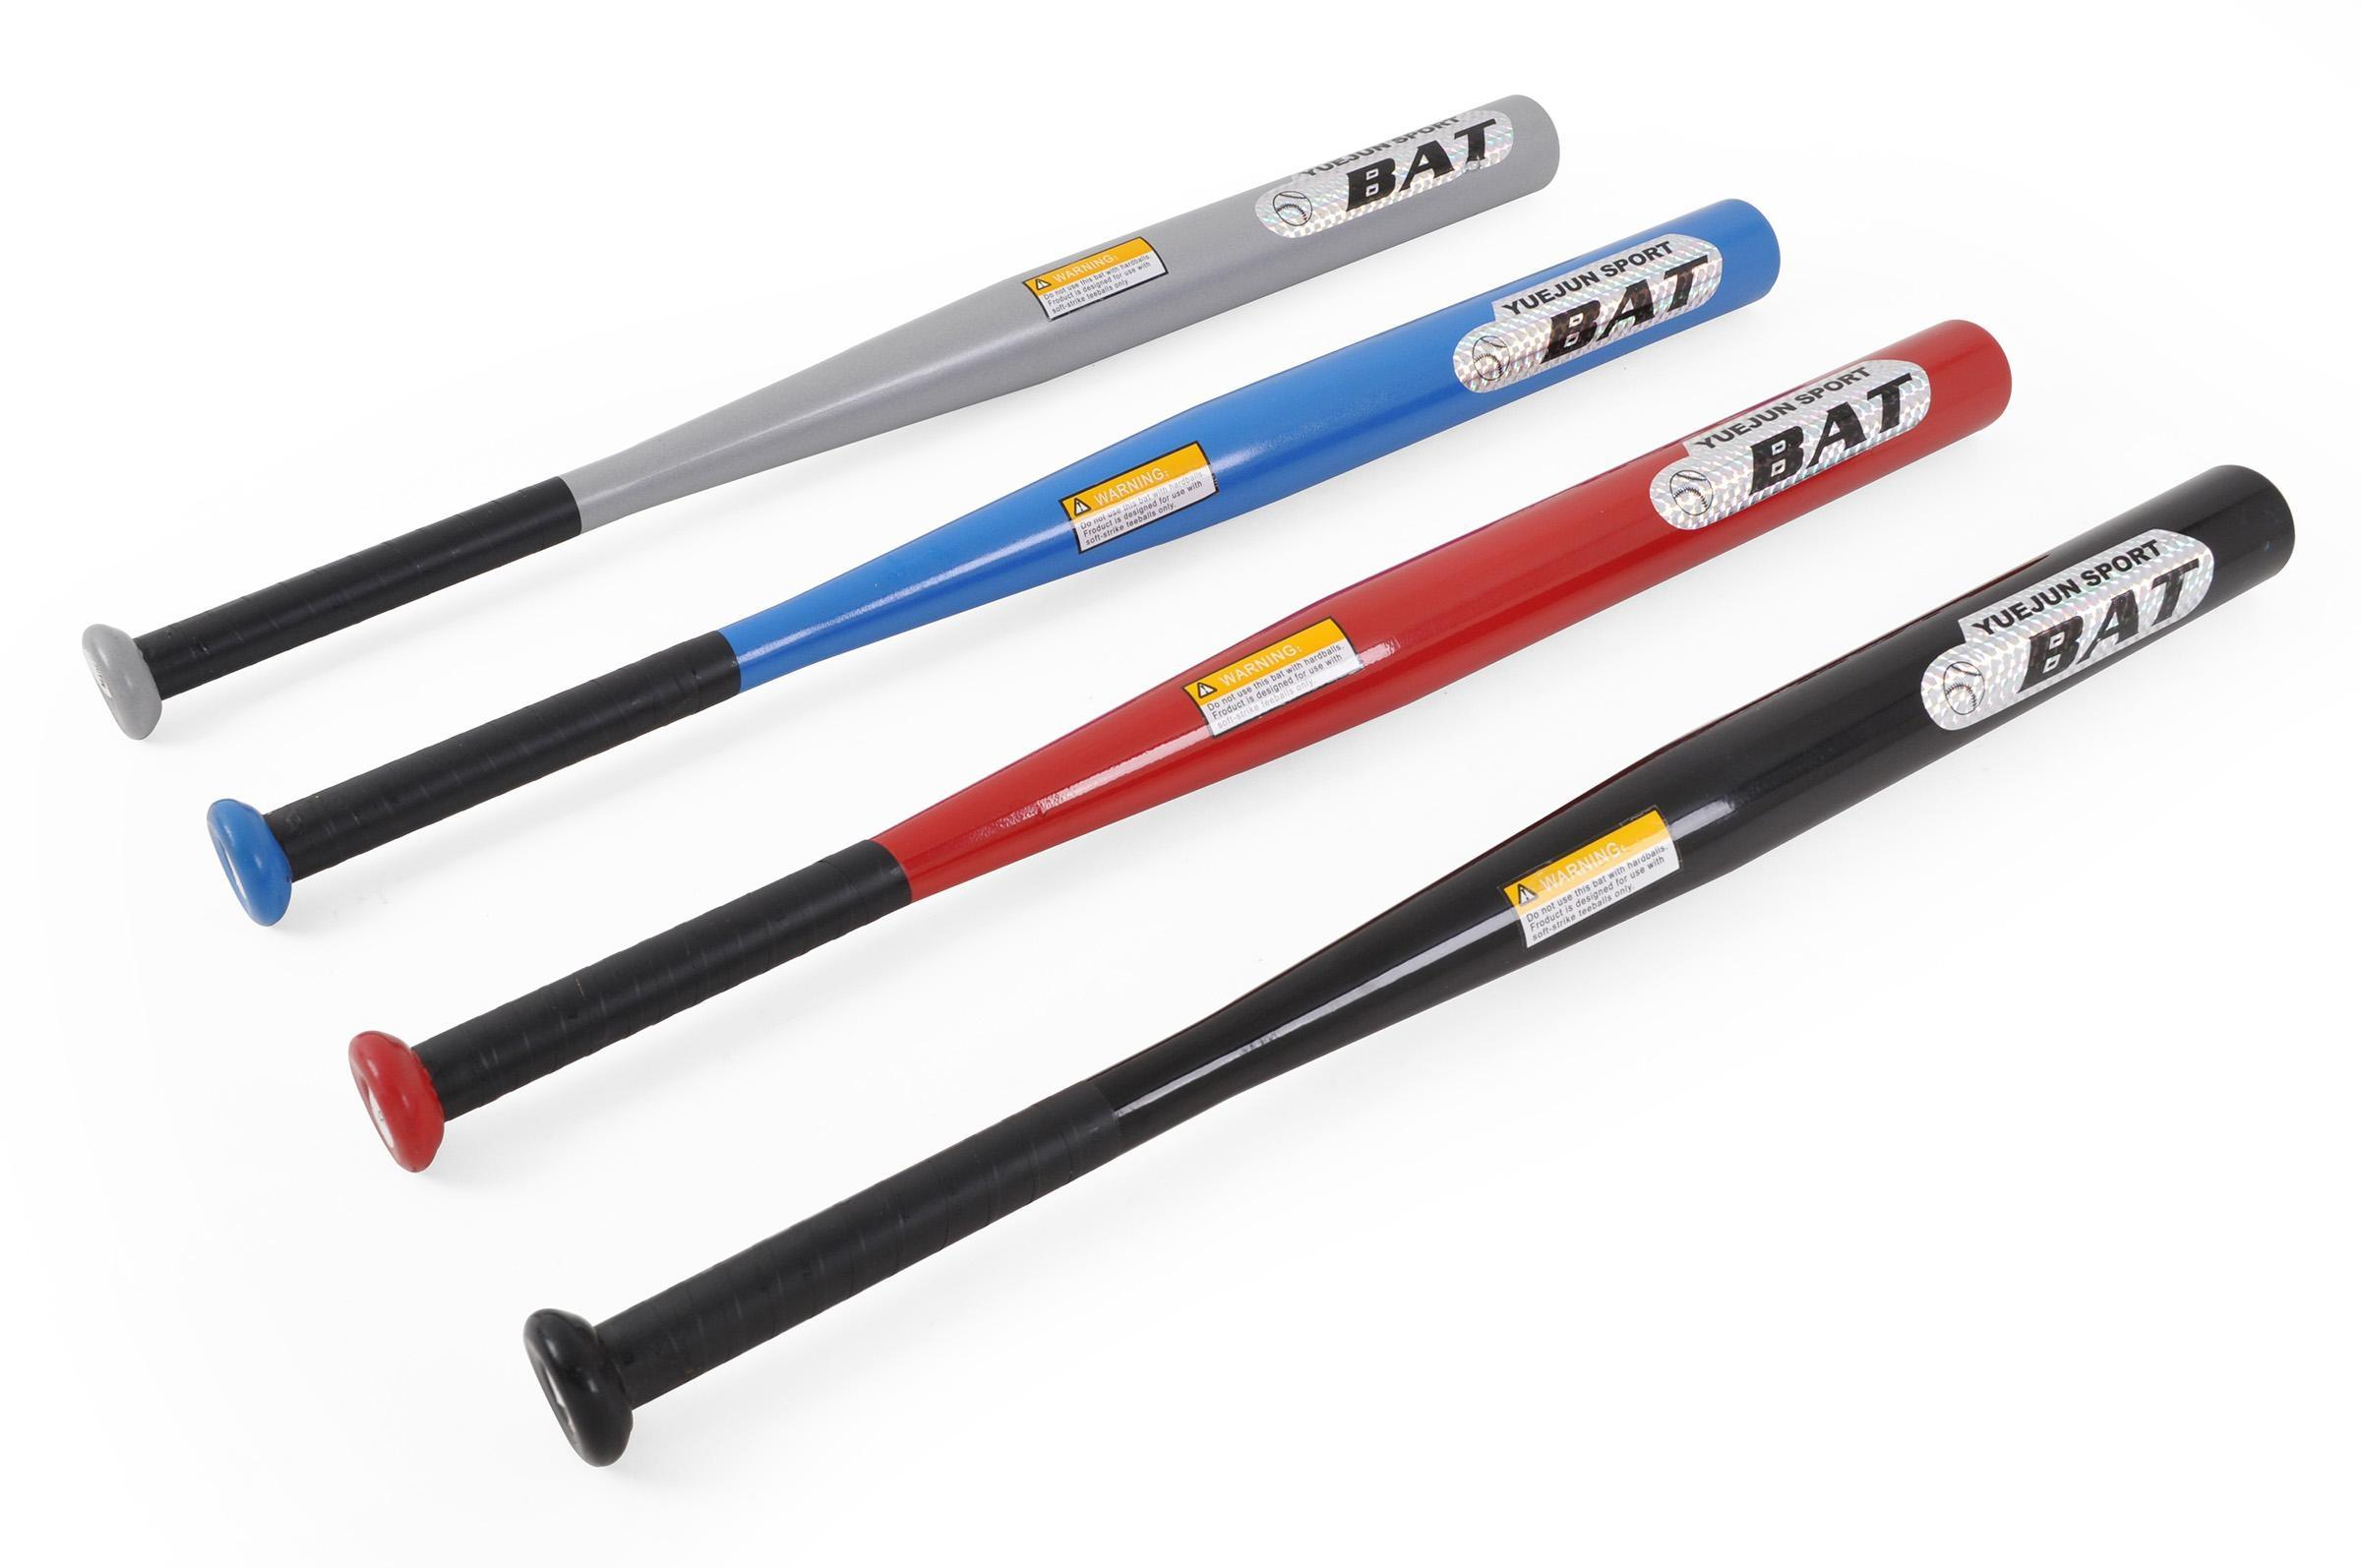Baseball-Bat: (448, 425, 2359, 1517), (292, 273, 2088, 1221), (163, 168, 1825, 948), (53, 60, 1608, 775)
